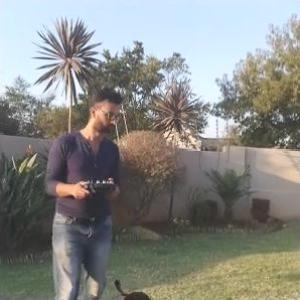follow: (44, 81, 126, 299)
